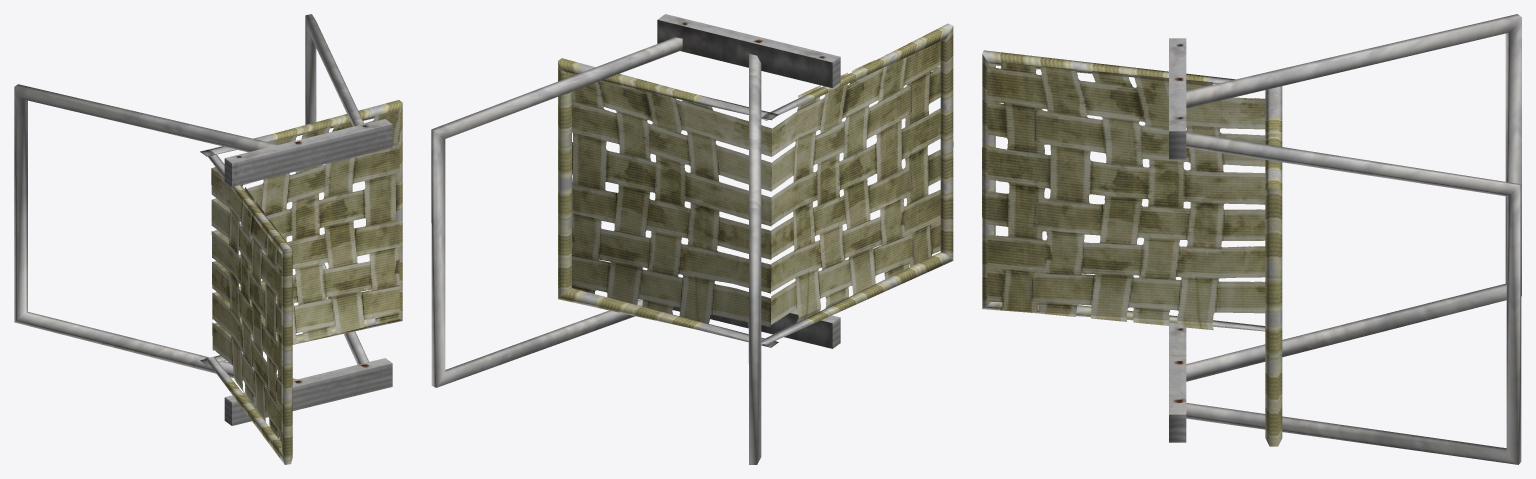
The model's file is furniture_lawn_chair_1_LOD1.obj.
3 renders of one model, left to right at view 1: azimuth 30°, elevation 25°; view 2: azimuth 150°, elevation 25°; view 3: azimuth 270°, elevation 25°, orthographic. The views are drawn at different scales.
Visible parts, largest first — view 1: mtl_furniture_lawn_chair_1_cloth, mtl_furniture_lawn_chair_1_metal; view 2: mtl_furniture_lawn_chair_1_cloth, mtl_furniture_lawn_chair_1_metal; view 3: mtl_furniture_lawn_chair_1_cloth, mtl_furniture_lawn_chair_1_metal.
Boxes of the visible parts, x1,y1,x2,y2 form: mtl_furniture_lawn_chair_1_cloth: (211, 109, 399, 441); mtl_furniture_lawn_chair_1_metal: (14, 14, 402, 464); mtl_furniture_lawn_chair_1_cloth: (571, 42, 940, 327); mtl_furniture_lawn_chair_1_metal: (431, 14, 953, 464); mtl_furniture_lawn_chair_1_cloth: (987, 62, 1265, 330); mtl_furniture_lawn_chair_1_metal: (982, 14, 1521, 464).
Size of the model in its own units: 77.85 by 65.12 by 102.
